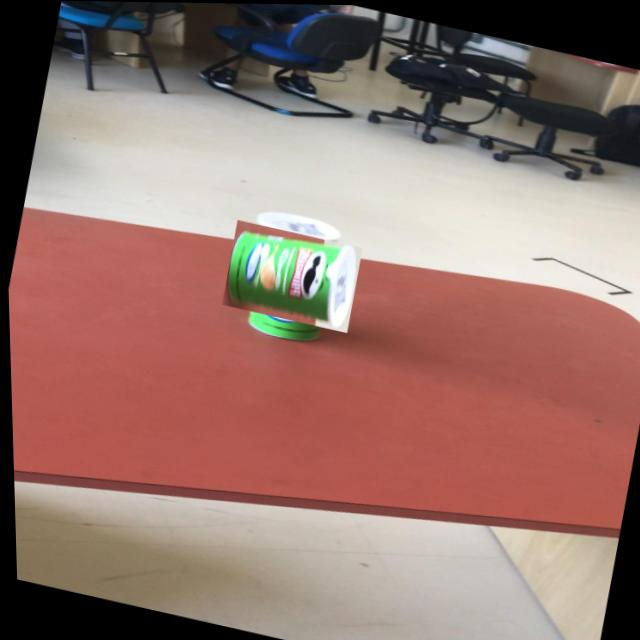a pringles: (224, 211, 354, 340)
